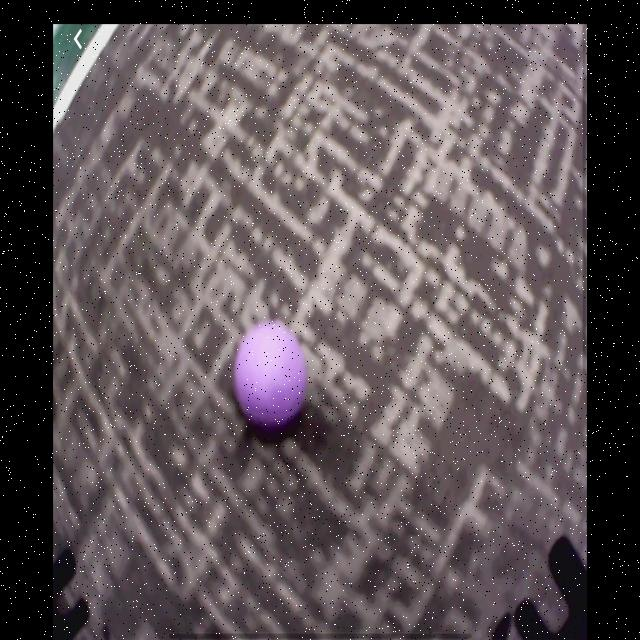ball: (234, 321, 309, 431)
